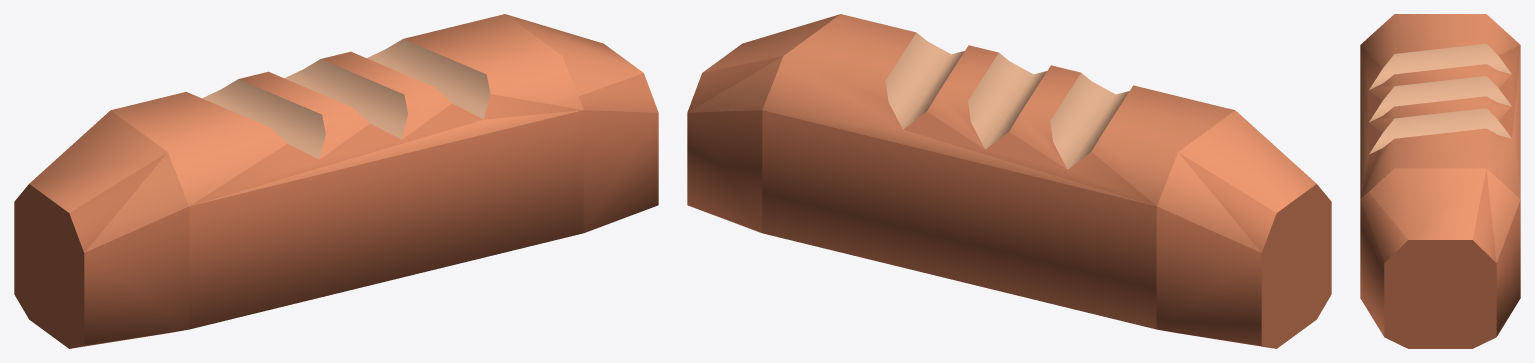
File: baguete.glb
3 renders of one model, left to right at view 1: azimuth 30°, elevation 25°; view 2: azimuth 150°, elevation 25°; view 3: azimuth 270°, elevation 25°, orthographic. The views are drawn at different scales.
Visible parts, largest first — view 1: loaf-baguette; view 2: loaf-baguette; view 3: loaf-baguette.
Part boxes in pixels (<box>): loaf-baguette: <box>14,14,658,348</box>; loaf-baguette: <box>687,14,1331,348</box>; loaf-baguette: <box>1360,14,1520,348</box>.
Bounding box in the file's own units: 0.83 × 0.25 × 0.25.
